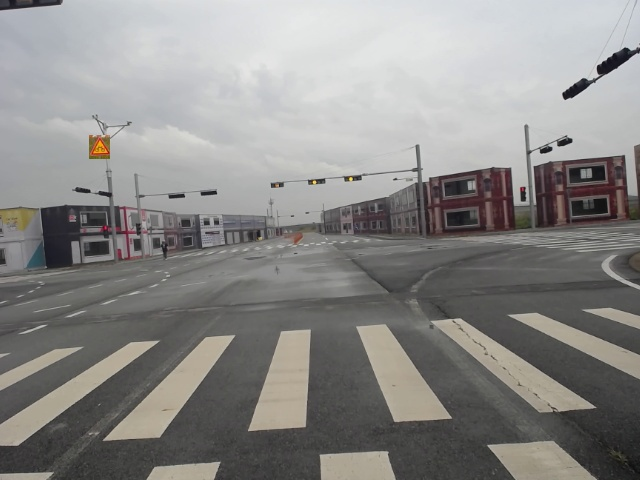orange_4: (304, 178, 327, 185), (342, 174, 362, 182)
